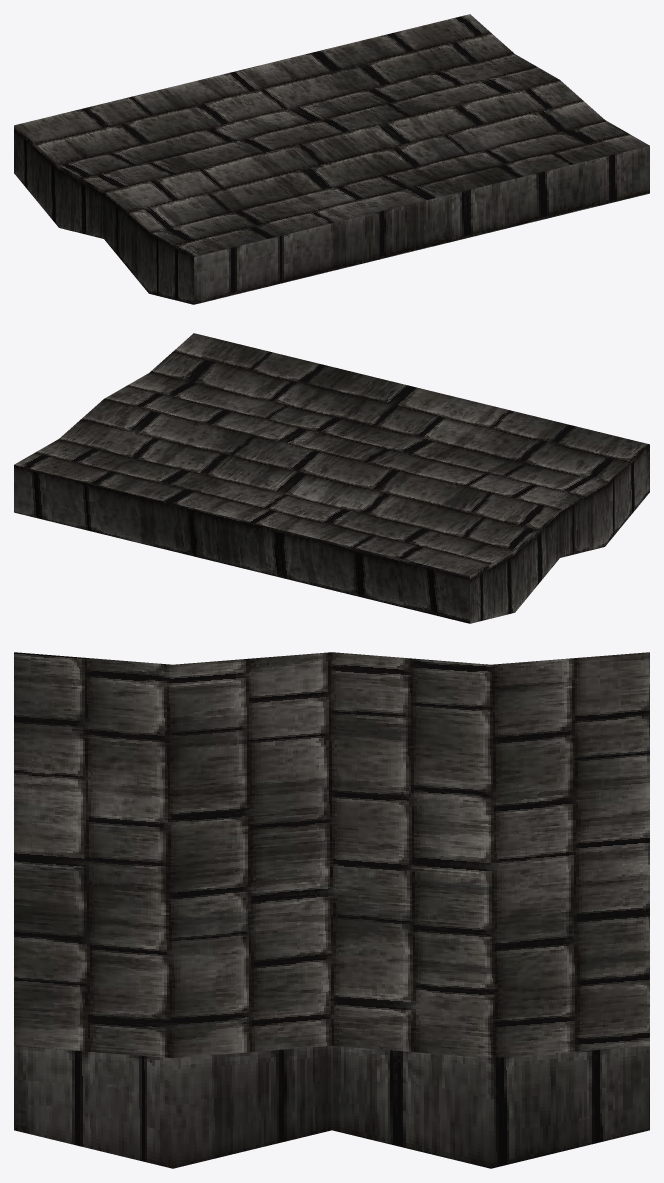
Rendered from tavern_roof.glb.
3 renders of one model, top to bottom at view 1: azimuth 30°, elevation 25°; view 2: azimuth 150°, elevation 25°; view 3: azimuth 270°, elevation 25°, orthographic. The views are drawn at different scales.
Parts seen in each view (by area): view 1: tavern_roof; view 2: tavern_roof; view 3: tavern_roof.
Boxes of the visible parts, box(x1,y1,x2,y2) form: tavern_roof: box(14, 14, 649, 304); tavern_roof: box(14, 333, 649, 623); tavern_roof: box(14, 652, 649, 1168).
Bounding box in the file's own units: 3 × 0.4365 × 2.05.
1 material, 1 textured.
